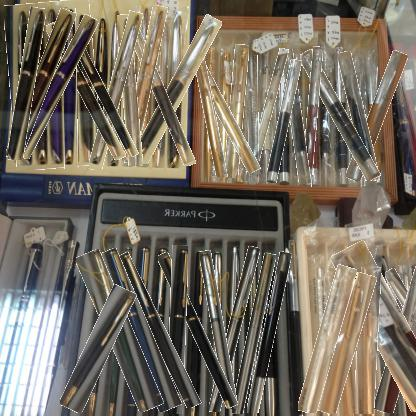Pen: (6, 0, 100, 170), (349, 239, 415, 416), (90, 248, 148, 414), (110, 247, 166, 414), (149, 11, 204, 168), (133, 250, 184, 412), (31, 12, 81, 162), (174, 250, 220, 412), (18, 7, 63, 163), (315, 47, 364, 185), (72, 283, 123, 415), (62, 19, 108, 165), (139, 18, 181, 169), (307, 264, 347, 415), (80, 19, 122, 161), (326, 272, 367, 415), (98, 10, 132, 171), (218, 246, 250, 414), (356, 49, 396, 183), (205, 53, 246, 177), (129, 5, 160, 164), (254, 250, 283, 414), (384, 264, 415, 416), (239, 253, 268, 415), (12, 7, 40, 161), (205, 250, 231, 411), (344, 51, 373, 182), (253, 47, 280, 184), (355, 267, 379, 415), (118, 14, 140, 167), (168, 245, 186, 415), (198, 46, 221, 179), (272, 59, 295, 184), (285, 49, 306, 185), (226, 44, 246, 179), (304, 46, 320, 189), (64, 9, 77, 171), (393, 266, 415, 349), (247, 39, 258, 183)
